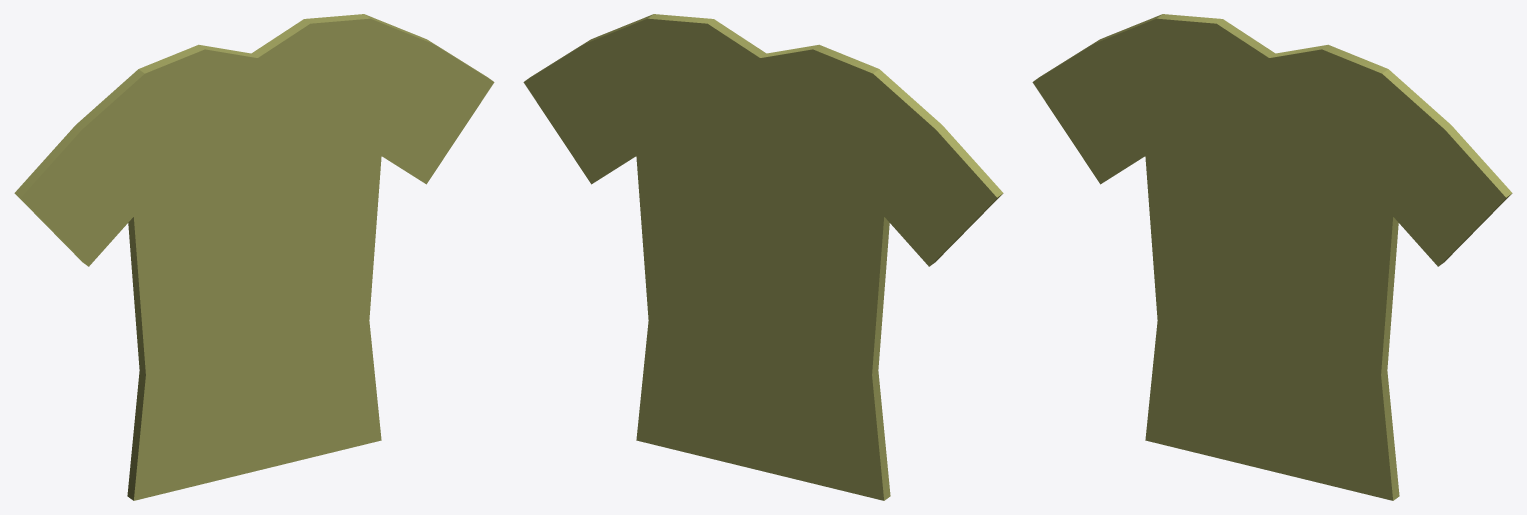
The model's file is shirt.fbx.
3 views of the same model, side by side, from view 1: azimuth 30°, elevation 25°; view 2: azimuth 150°, elevation 25°; view 3: azimuth 330°, elevation 25° (orthographic).
Visible parts, largest first — view 1: pasted__pCube13; view 2: pasted__pCube13; view 3: pasted__pCube13.
Boxes of the visible parts, x1,y1,x2,y2 form: pasted__pCube13: (14, 14, 494, 500); pasted__pCube13: (523, 14, 1003, 500); pasted__pCube13: (1032, 14, 1512, 500).
Size of the model in its own units: 1.01 by 0.8833 by 0.0235.
